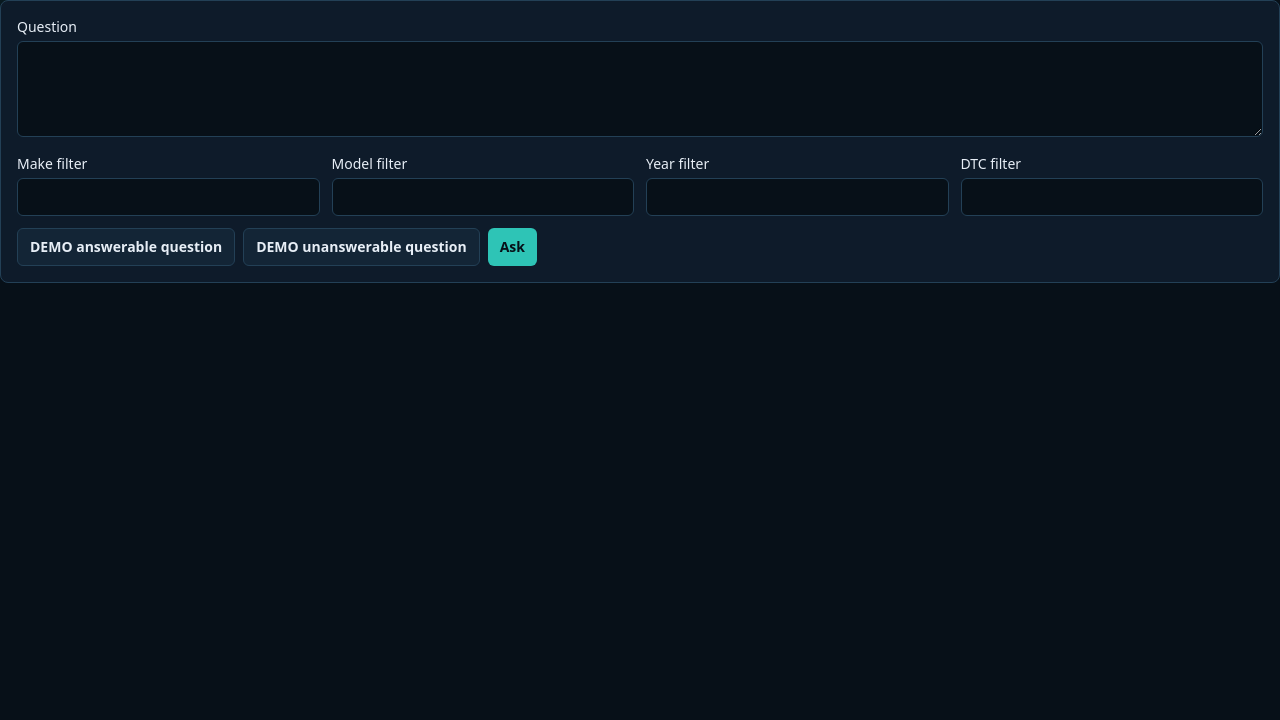
it: QA abstention state is visible
This screenshot has width=1280, height=720.
Click the button "DEMO unanswerable question". click: (361,247)
box: [243,228,480,266]
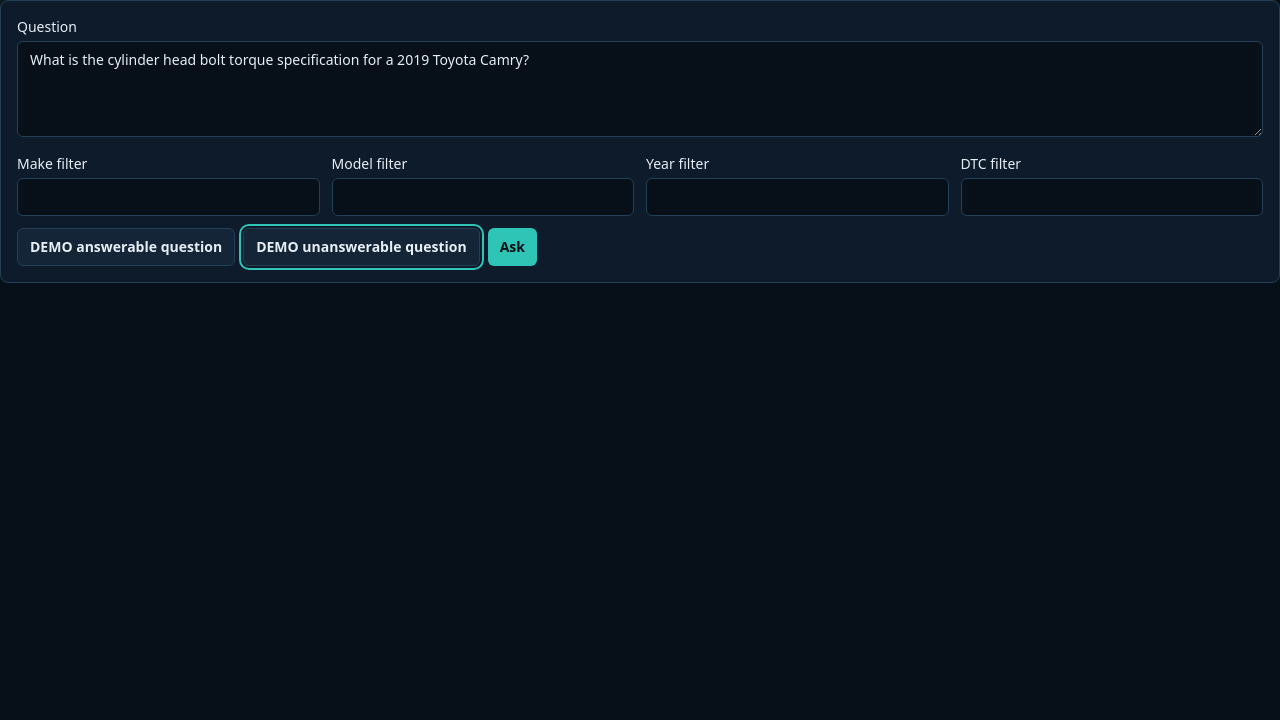
Click the button "Ask". click: (512,247)
box: [488,228,537,266]
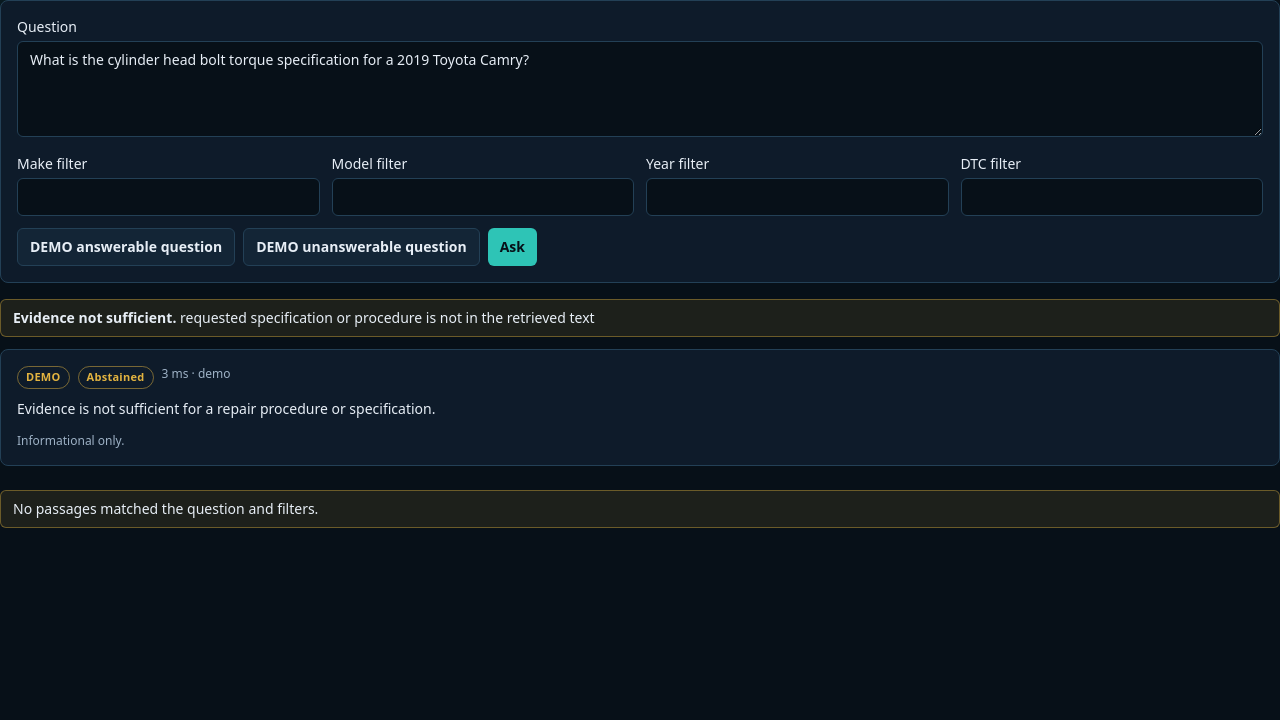
Expected: the text "Evidence not sufficient." is shown, [13,308,176,327]
